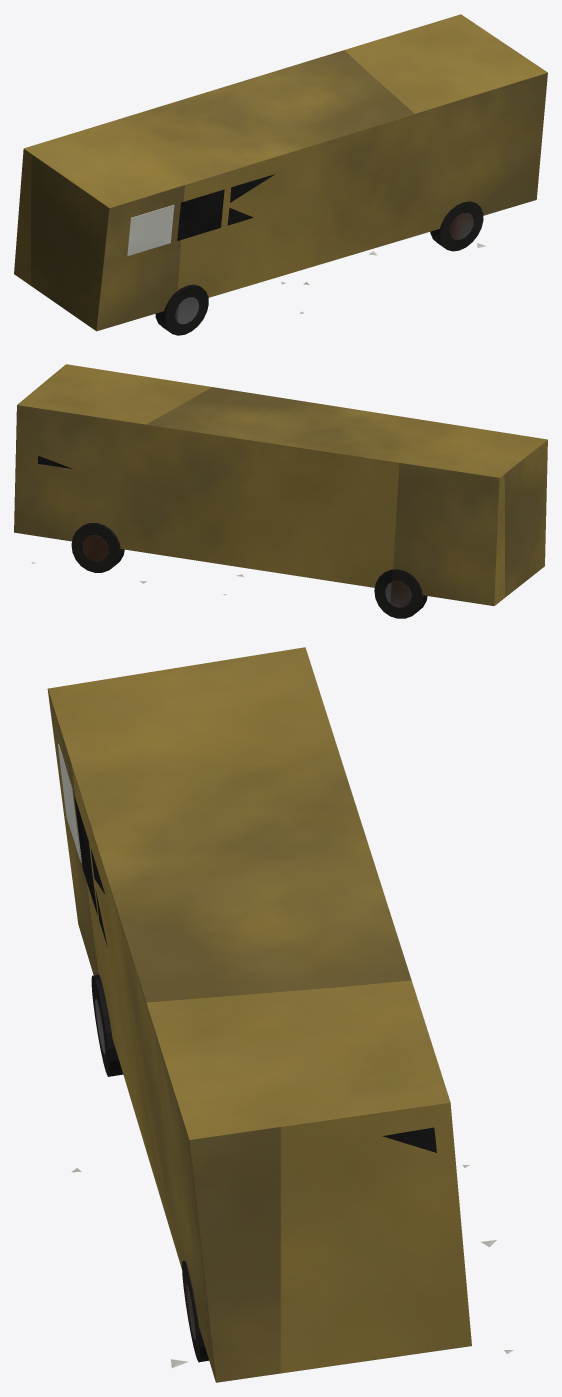
Rendered from JV08_wrecked_city_bus_v1.glb.
3 views of the same model, one above another, from view 1: azimuth 30°, elevation 25°; view 2: azimuth 150°, elevation 25°; view 3: azimuth 270°, elevation 25° (orthographic). The views are drawn at different scales.
Parts seen in each view (by area): view 1: JV08_wrecked_city_bus_v1; view 2: JV08_wrecked_city_bus_v1; view 3: JV08_wrecked_city_bus_v1.
Part boxes in pixels (x1,y1,x2,y2): JV08_wrecked_city_bus_v1: (14, 14, 547, 335); JV08_wrecked_city_bus_v1: (14, 364, 547, 618); JV08_wrecked_city_bus_v1: (47, 647, 513, 1382).
Size of the model in its own units: 10 by 3.48 by 4.35.
Materials: 5 (5 with a texture image).
